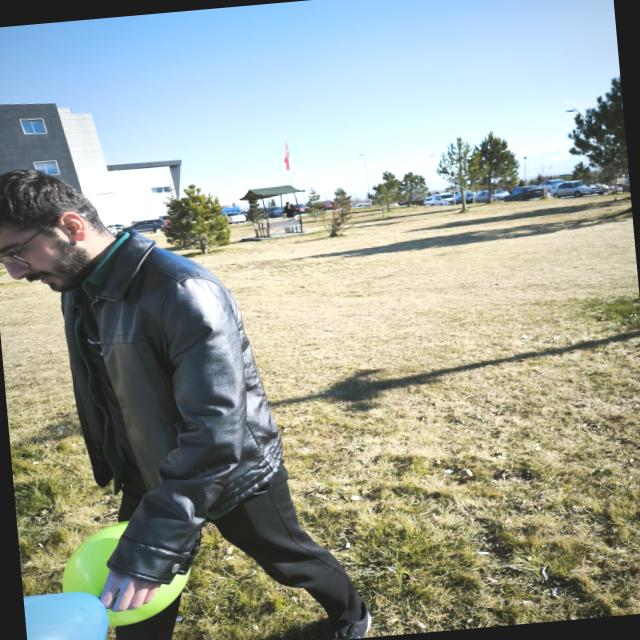balloon: (62, 521, 127, 596), (108, 568, 188, 626), (23, 592, 107, 640)
